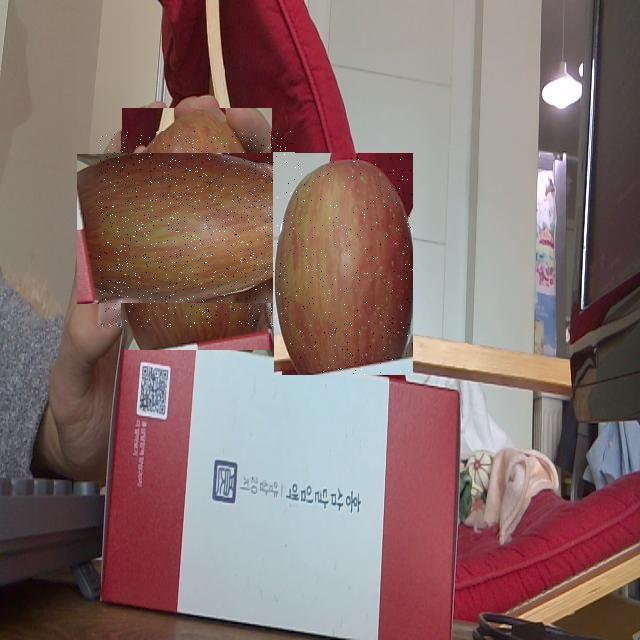apple: (100, 132, 296, 328), (274, 153, 413, 375)
